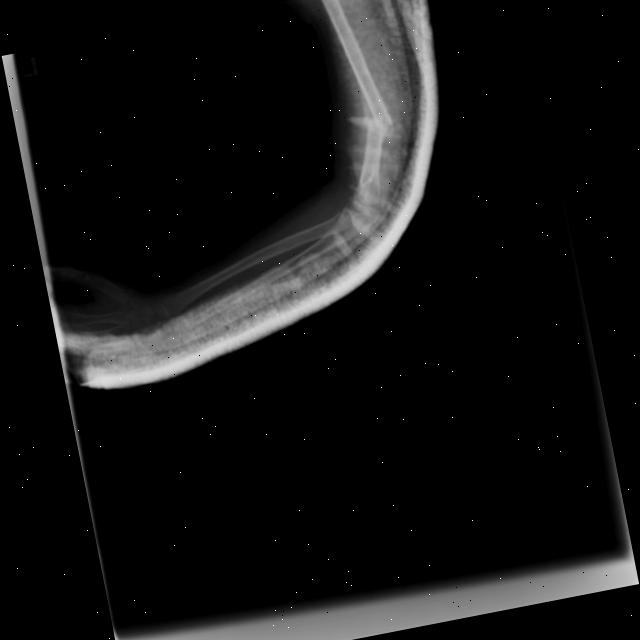Fracture: (343, 112, 398, 135)
